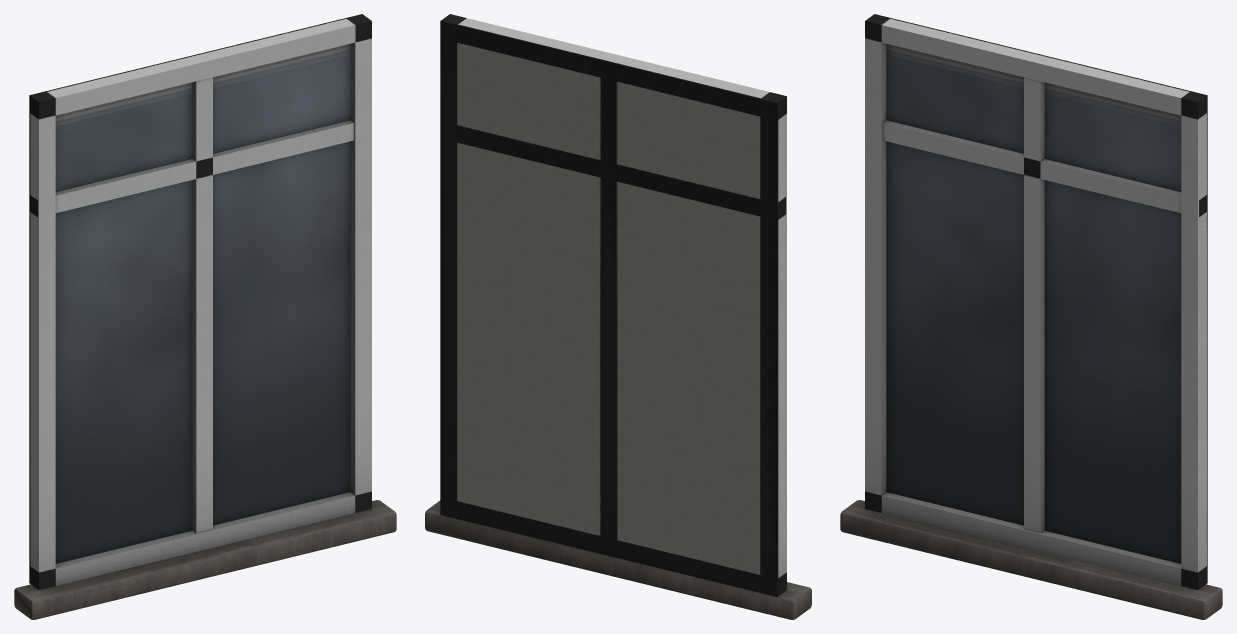
Rendered from win_office_tall.glb.
3 renders of one model, left to right at view 1: azimuth 30°, elevation 25°; view 2: azimuth 150°, elevation 25°; view 3: azimuth 330°, elevation 25°, orthographic.
Parts seen in each view (by area): view 1: win_office_tall; view 2: win_office_tall; view 3: win_office_tall.
Boxes of the visible parts, x1=… form: win_office_tall: x1=14, y1=14, x2=396, y2=619; win_office_tall: x1=425, y1=14, x2=811, y2=619; win_office_tall: x1=840, y1=14, x2=1222, y2=619.
Bounding box in the file's own units: 1.1 × 1.46 × 0.1.
1 material, 1 textured.
